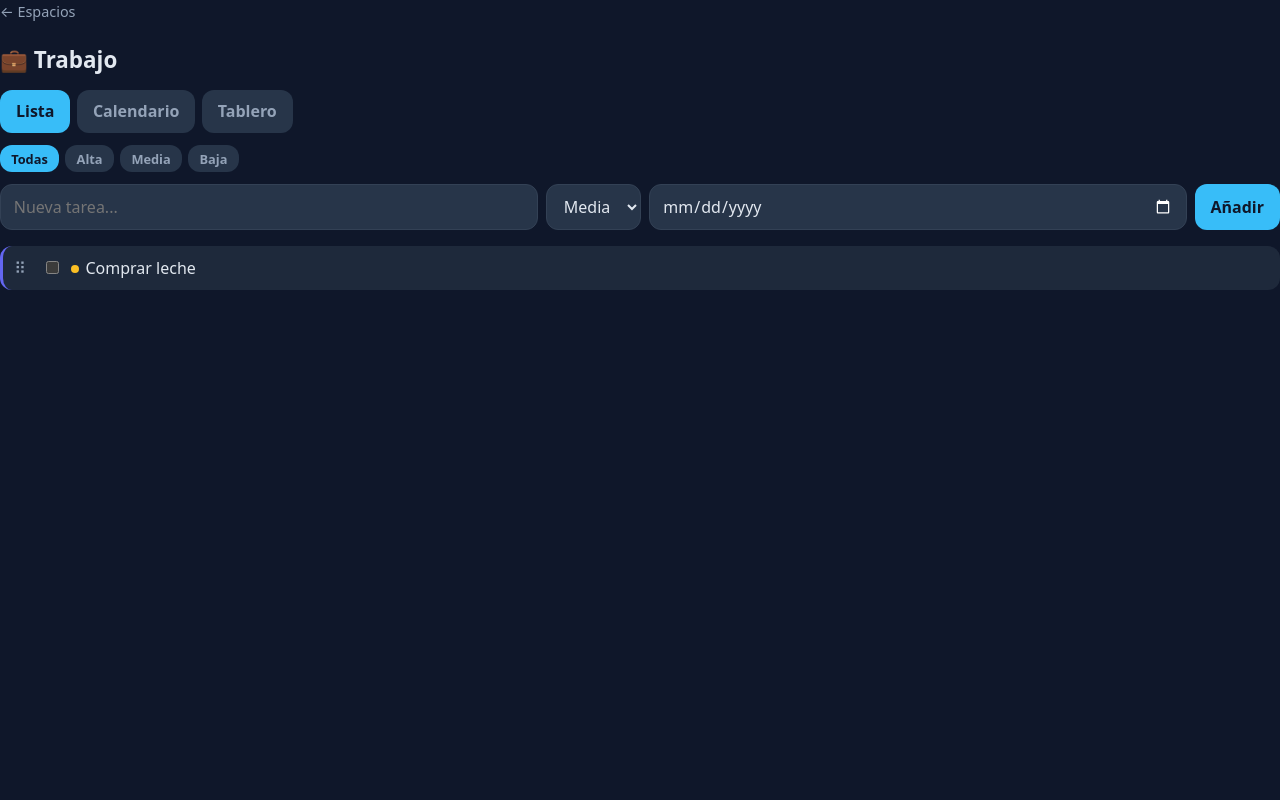
Test case: SpaceDetailPage › opens the task detail modal when a task is clicked
Click the text "Comprar leche" at point(134, 268), box [72,257,196,279]
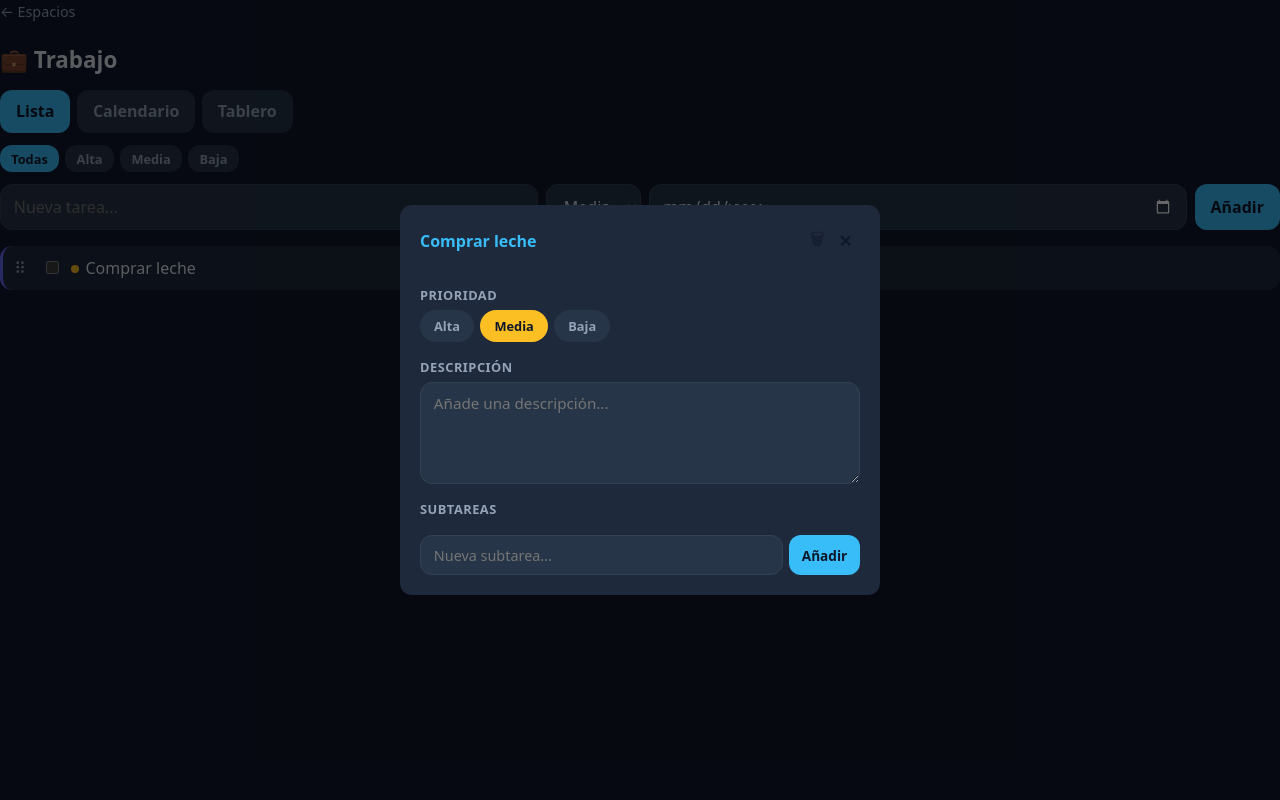
expect the field named "Título de la tarea" holds "Comprar leche": met, box [420,228,803,254]
